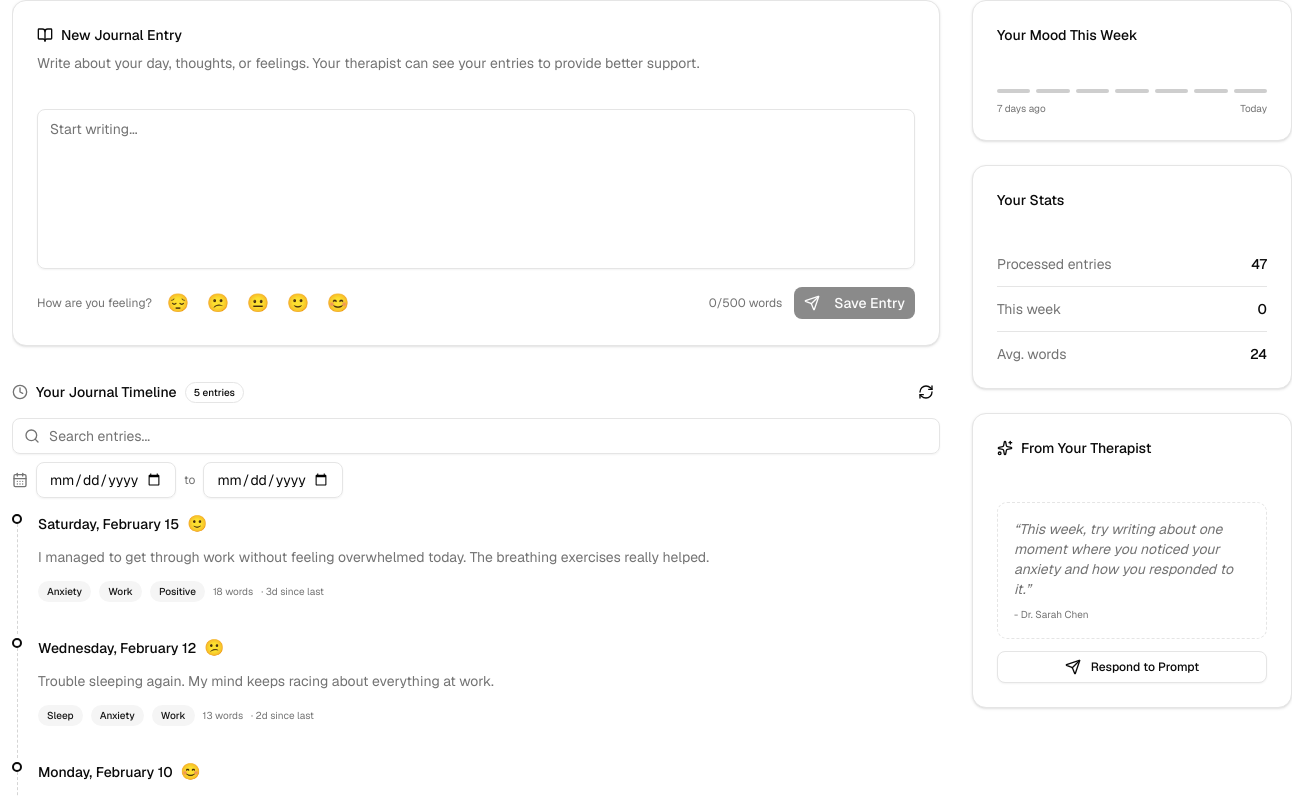
Journal page › computes word count from typed content
The image size is (1292, 796).
Type "Hello world today" into the text box with placeholder "Start writing..." at (476, 189), box [37, 109, 915, 269]
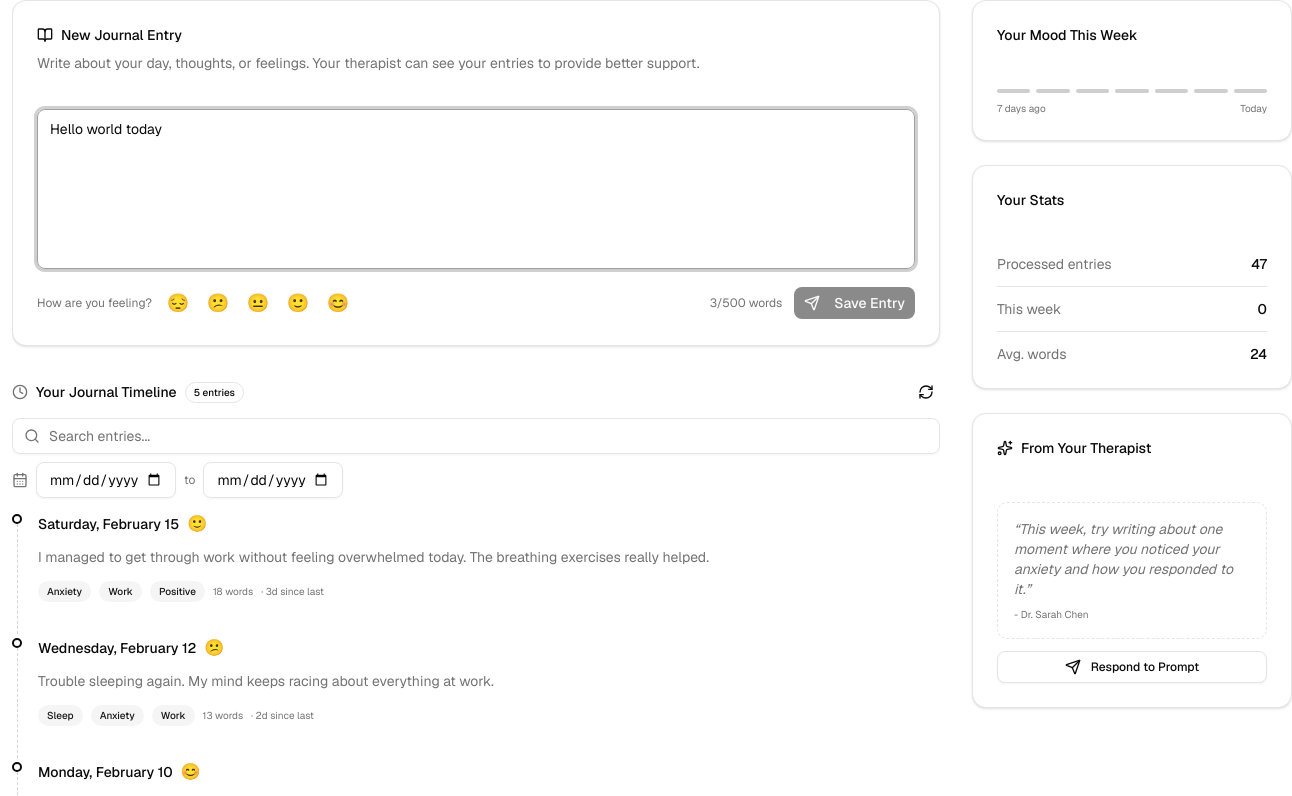
Now the text "3/500 words" is shown, box [710, 295, 782, 311]
